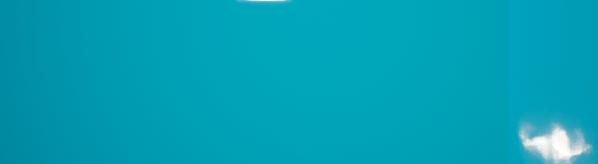land_base: (510, 114, 597, 164)
